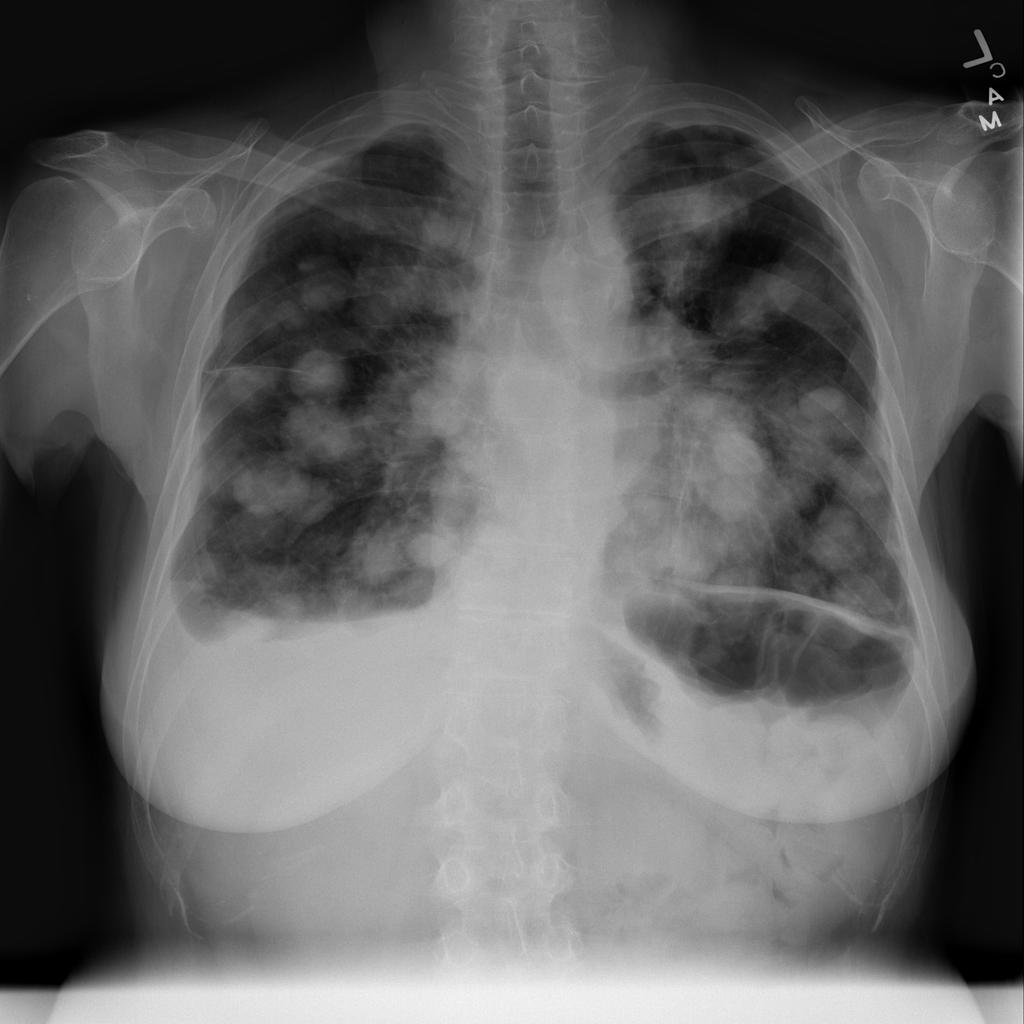nodule: (607, 156, 767, 289), (664, 398, 792, 533), (695, 246, 828, 354), (229, 454, 324, 524), (280, 393, 362, 468), (351, 257, 431, 331), (793, 503, 877, 573), (346, 519, 420, 592), (278, 351, 358, 417), (786, 368, 866, 434), (269, 267, 351, 330), (828, 443, 903, 508), (213, 350, 287, 414), (408, 512, 467, 577)
